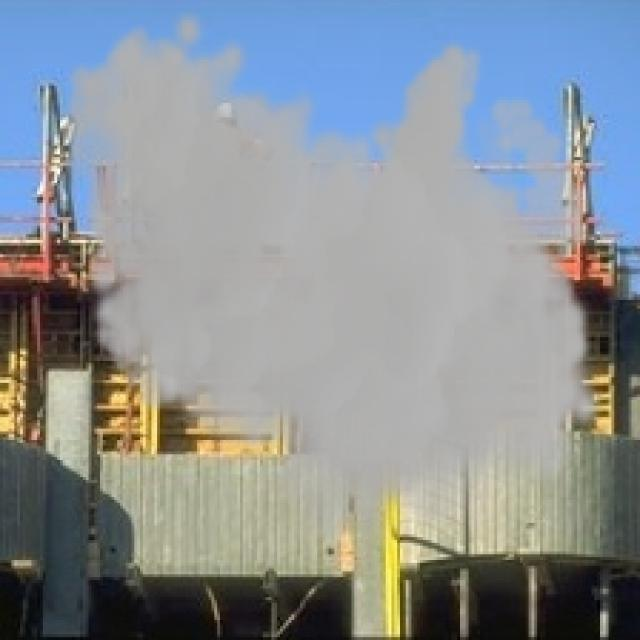Smoke: (60, 6, 606, 554)
